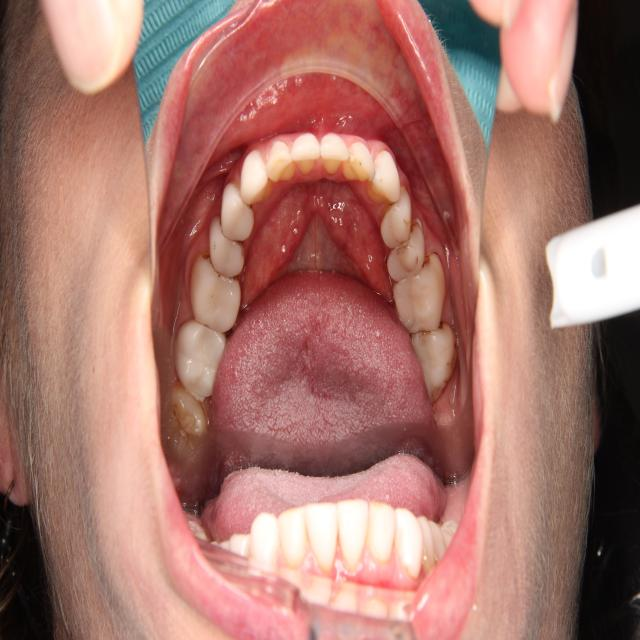tooth: (157, 377, 214, 470), (185, 248, 245, 336), (172, 313, 230, 404), (389, 249, 448, 335), (409, 319, 464, 402), (384, 214, 427, 284), (205, 214, 248, 279), (378, 182, 415, 250), (217, 181, 256, 243), (365, 147, 403, 208), (237, 146, 271, 204), (342, 135, 377, 190), (316, 130, 350, 179), (291, 123, 320, 177), (265, 137, 296, 186)
